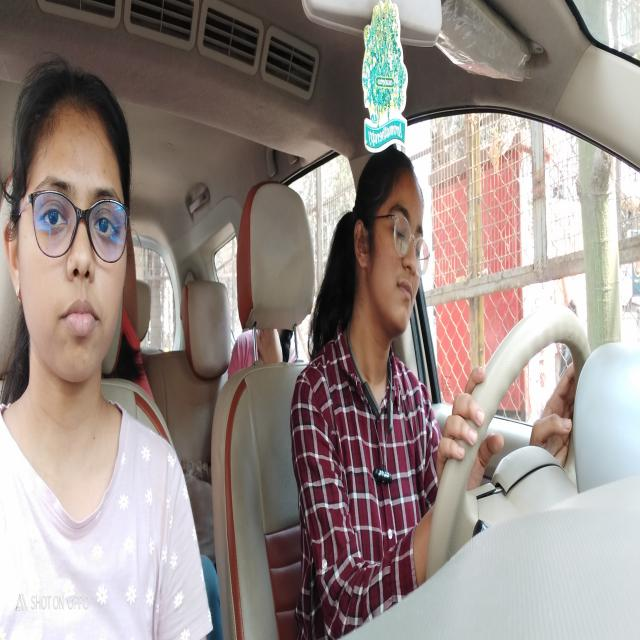drowsy: (346, 138, 430, 340)
person: (6, 58, 136, 411)
